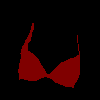reggiseno: (18, 23, 80, 88)
